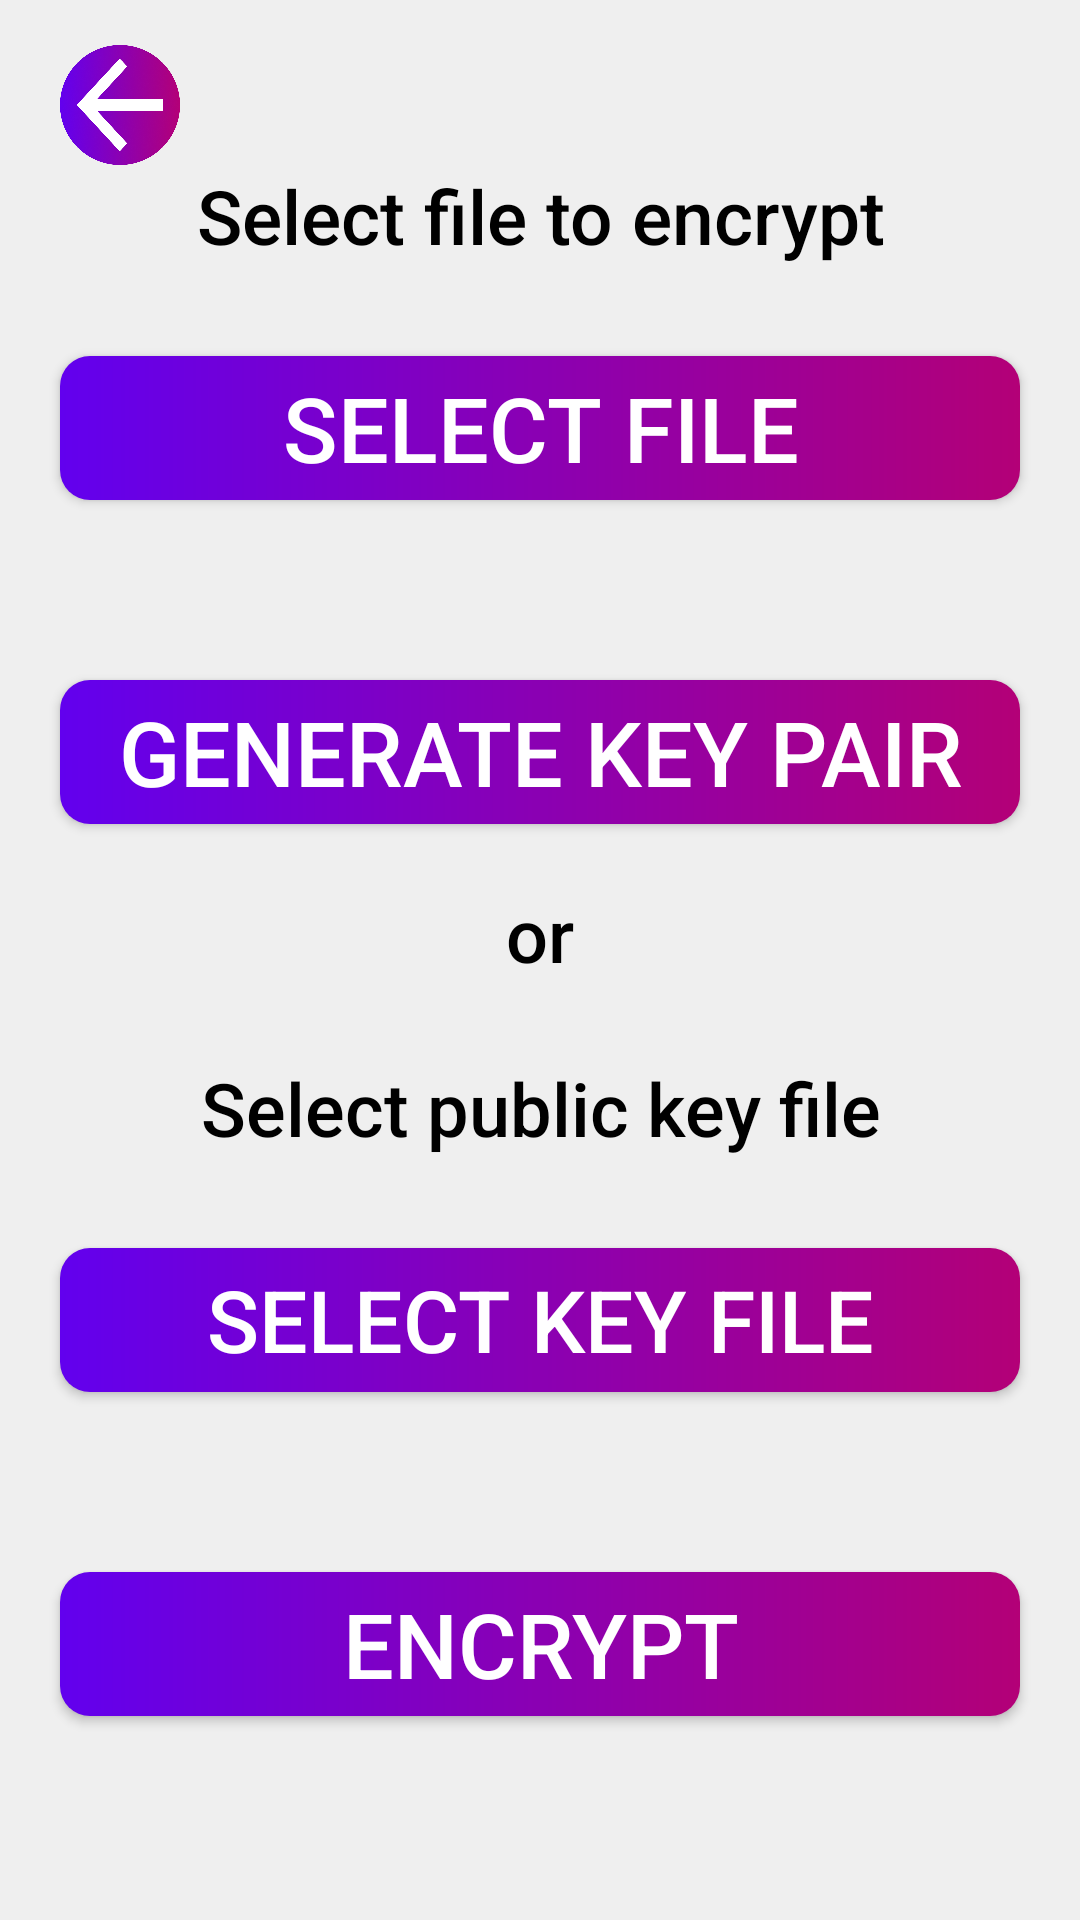

Where icons sit on this 1080×1920 app screen, as (x1, y1, x2, y2):
back: (60, 45, 180, 165)
